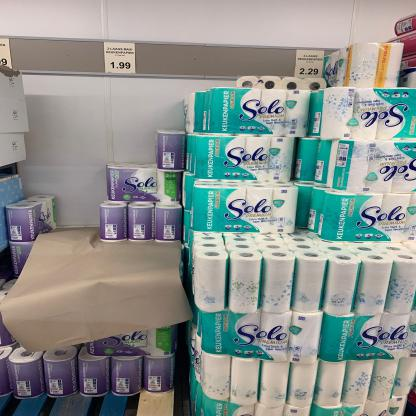prtg: (105, 43, 136, 75), (296, 51, 326, 79)
